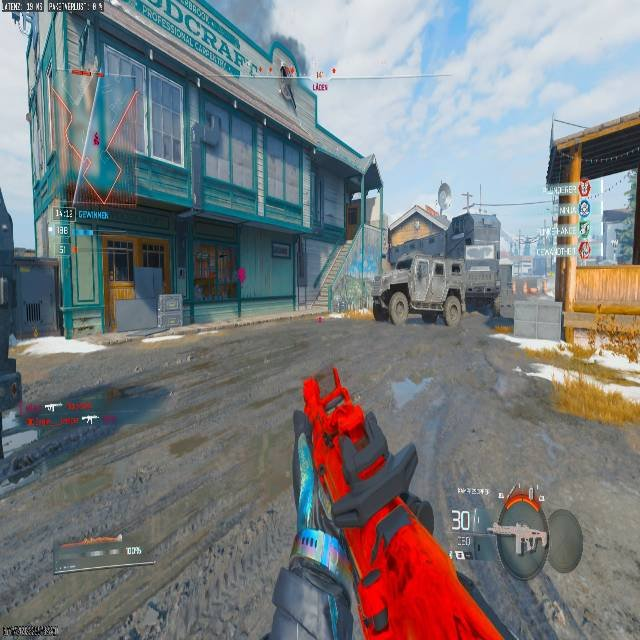player: (444, 285, 463, 322)
